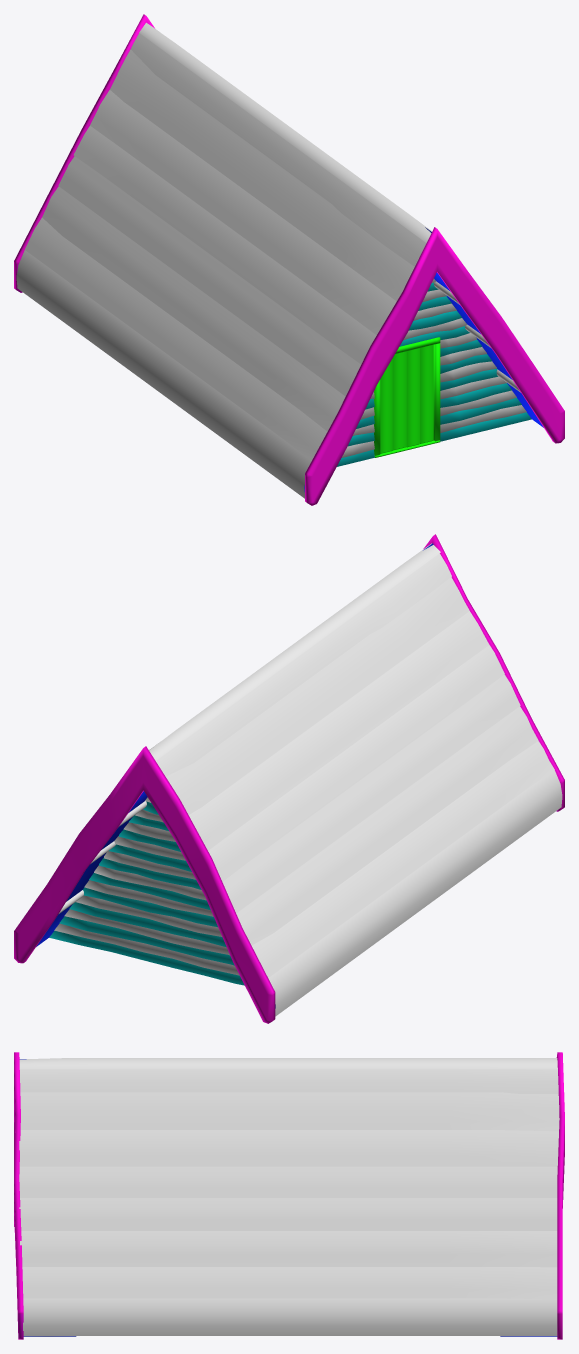
The model's file is House_low.fbx.
The picture shows the model from 3 angles, top to bottom: view 1: azimuth 30°, elevation 25°; view 2: azimuth 150°, elevation 25°; view 3: azimuth 270°, elevation 25°; orthographic projection. The views are drawn at different scales.
Parts seen in each view (by area): view 1: Straw2_low, House_low, Plank1_low, Plank2_low; view 2: Straw2_low, House_low, Plank1_low, Plank2_low; view 3: Straw2_low, House_low.
Boxes of the visible parts, <box> form: Straw2_low: <box>16,22,432,498</box>; House_low: <box>14,14,564,505</box>; Plank1_low: <box>337,282,531,466</box>; Plank2_low: <box>341,279,526,457</box>; Straw2_low: <box>149,543,562,1016</box>; House_low: <box>14,534,564,1023</box>; Plank1_low: <box>49,801,244,985</box>; Plank2_low: <box>54,797,239,975</box>; Straw2_low: <box>19,1058,559,1335</box>; House_low: <box>14,1052,564,1339</box>.
Bounding box in the file's own units: 5.22 × 4.72 × 10.24.
